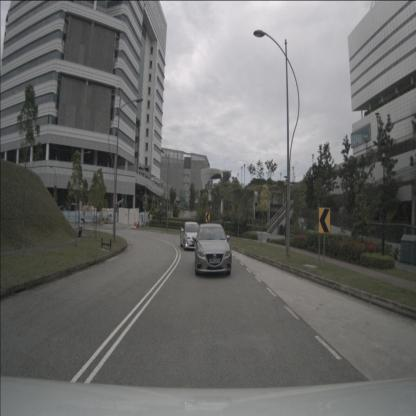vehicle-car: (194, 224, 232, 276), (180, 222, 201, 250)
vehicle-motorcycle: (78, 216, 84, 237)
